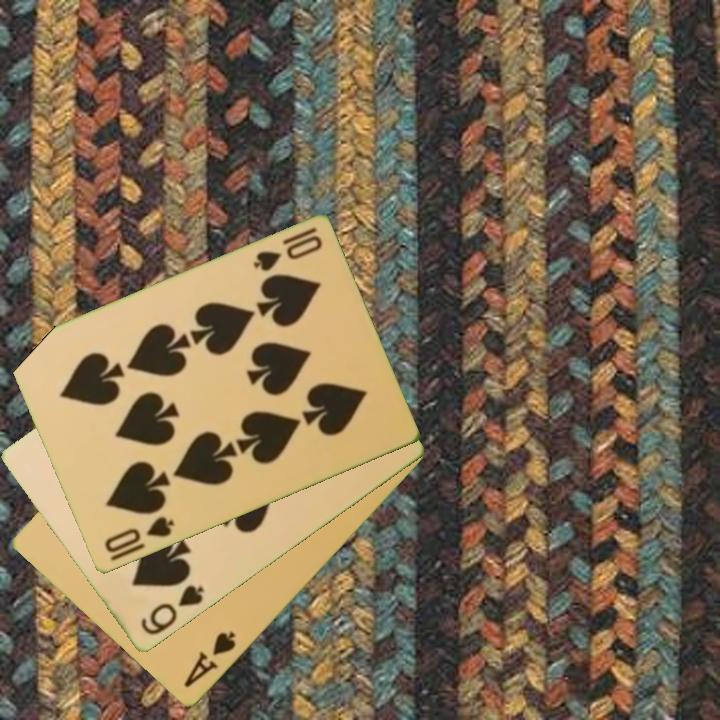10s: (249, 224, 325, 275), (100, 513, 177, 557)
6s: (137, 582, 207, 639)
As: (180, 627, 239, 691)
